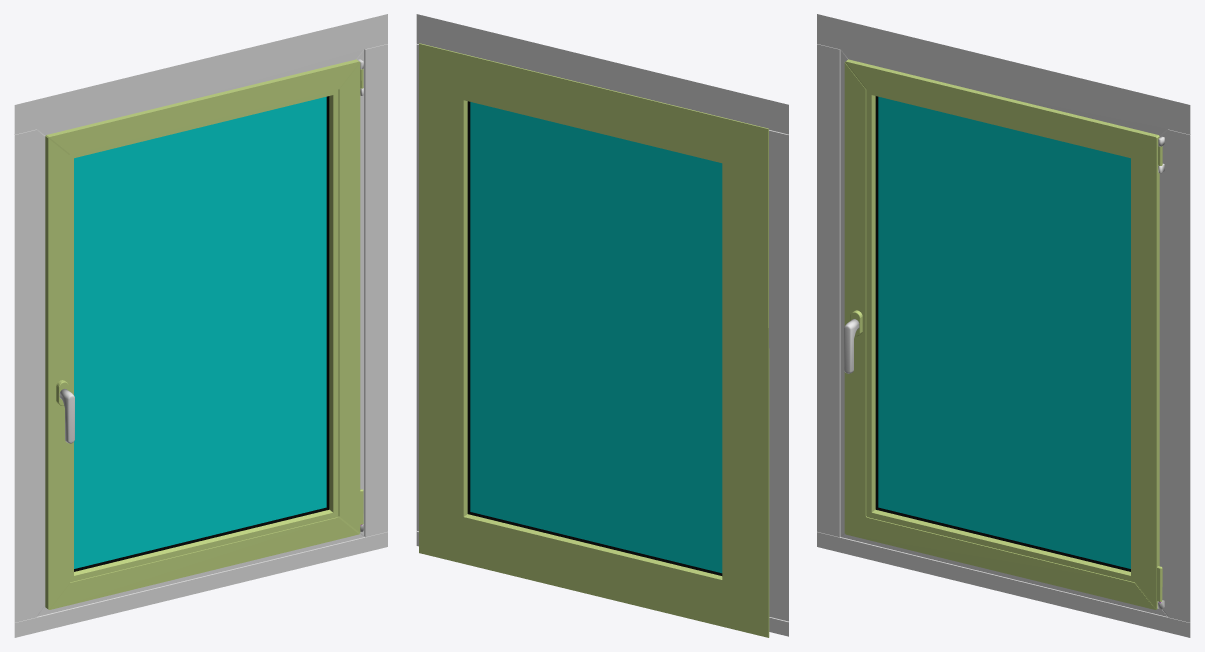
File: SmallWindowNew.fbx
3 views of the same model, side by side, from view 1: azimuth 30°, elevation 25°; view 2: azimuth 150°, elevation 25°; view 3: azimuth 330°, elevation 25° (orthographic).
Parts seen in each view (by area): view 1: #WIN0003_Window.001, #WIN0003_Frame, #WIN0003_Window, #WIN0003_Handle; view 2: #WIN0003_Window.001, #WIN0003_Window, #WIN0003_Frame; view 3: #WIN0003_Window.001, #WIN0003_Frame, #WIN0003_Window, #WIN0003_Handle.
Boxes of the visible parts, <box> form: #WIN0003_Window.001: <box>74,96,329,571</box>; #WIN0003_Frame: <box>14,14,387,637</box>; #WIN0003_Window: <box>45,59,363,609</box>; #WIN0003_Handle: <box>59,389,74,443</box>; #WIN0003_Window.001: <box>467,101,722,575</box>; #WIN0003_Window: <box>419,43,769,637</box>; #WIN0003_Frame: <box>416,14,788,636</box>; #WIN0003_Window.001: <box>875,96,1130,571</box>; #WIN0003_Frame: <box>817,14,1190,637</box>; #WIN0003_Window: <box>844,59,1162,609</box>; #WIN0003_Handle: <box>844,319,859,373</box>.
Size of the model in its own units: 104 by 142 by 11.29.
